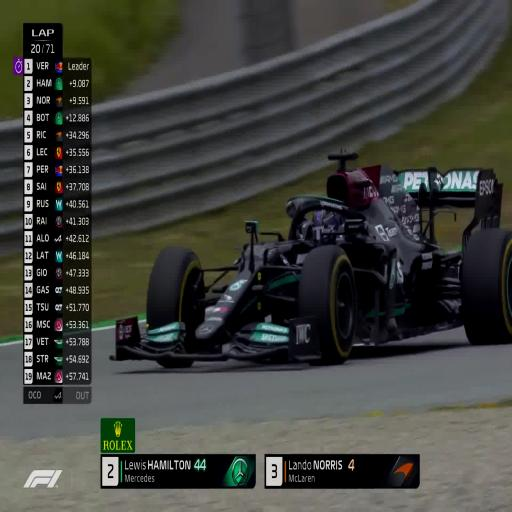f1_car: (111, 152, 512, 367)
